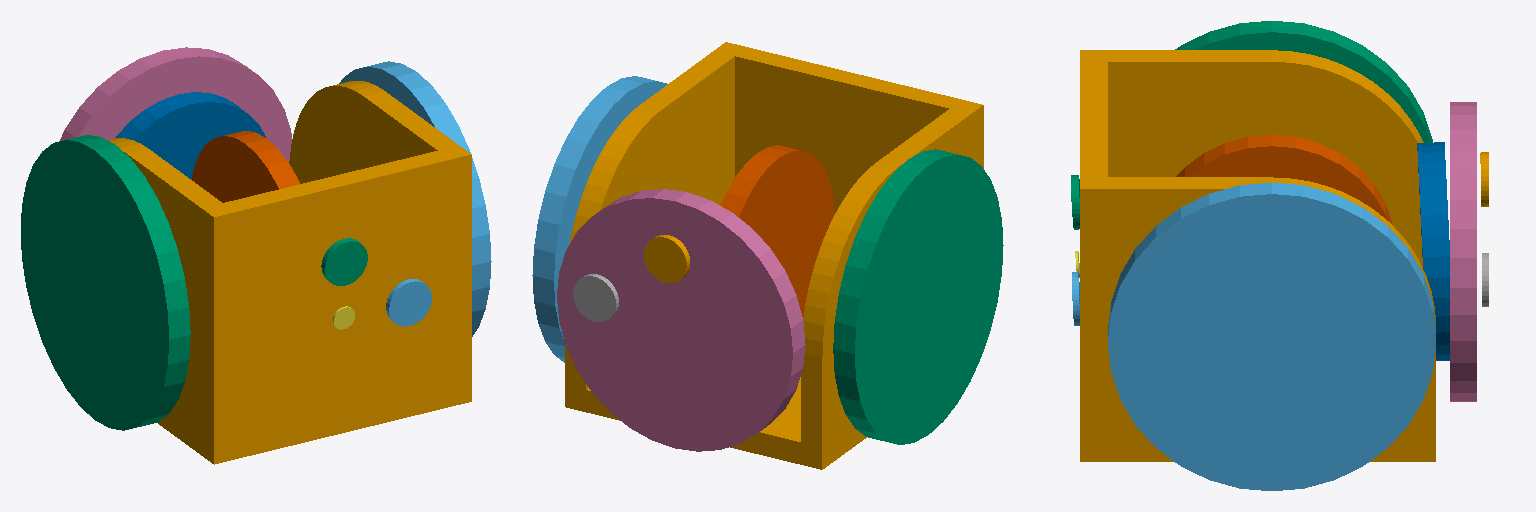
The robot description file, URDF, robot "ditto19":
<?xml version="1.0" ?>
<robot name="ditto19">
  <joint name="ditto19__hokuyo_sensor_joint" type="fixed">
    <parent link="ditto19__body"/>
    <child link="ditto19__hokuyo_sensor"/>
    <origin rpy="1.65062000e+00  -5.00000000e-05   5.80000000e-04" xyz="0      -0.07099  0.015"/>
    <axis xyz="1.00000000e+00   0.00000000e+00   5.90000000e-04"/>
    <limit effort="-1.0" lower="0.0" upper="-0.0" velocity="-1.0"/>
  </joint>
  <joint name="ditto19__body_JOINT_0" type="fixed">
    <parent link="ditto19__body"/>
    <child link="ditto19__body_magnet_south"/>
    <origin rpy="1.63618000e+00  -4.00000000e-05   2.10000000e-04" xyz="0      -0.07149  0.04"/>
    <axis xyz="1.00000000e+00  -2.00000000e-05   2.20000000e-04"/>
    <limit effort="-1.0" lower="0.0" upper="0.0" velocity="-1.0"/>
  </joint>
  <joint name="ditto19__body_JOINT_1" type="fixed">
    <parent link="ditto19__body"/>
    <child link="ditto19__body_magnet_north"/>
    <origin rpy="1.62063000e+00  -3.00000000e-05   1.60000000e-04" xyz="0.03    -0.07149  0.015"/>
    <axis xyz="1.00000000e+00  -2.00000000e-05   1.60000000e-04"/>
    <limit effort="-1.0" lower="0.0" upper="0.0" velocity="-1.0"/>
  </joint>
  <joint name="ditto19__fixed_joint" type="fixed">
    <parent link="ditto19__face_tilt"/>
    <child link="ditto19__face_pan"/>
    <origin rpy="1.54872000e+00  -2.00000000e-05   4.30500000e-02" xyz="0    0.06  0"/>
    <axis xyz="-9.99070000e-01   6.00000000e-05  -4.30500000e-02"/>
    <limit effort="-1.0" lower="0.0" upper="0.0" velocity="-1.0"/>
  </joint>
  <joint name="ditto19__front_face_JOINT_0" type="fixed">
    <parent link="ditto19__front_face"/>
    <child link="ditto19__front_face_magnet_north"/>
    <origin rpy="1.57071000e+00  -1.00000000e-05   1.00000000e-04" xyz="0.03   0.008 -0.005"/>
    <axis xyz="1.00000000e+00  -1.00000000e-05   8.00000000e-05"/>
    <limit effort="-1.0" lower="0.0" upper="0.0" velocity="-1.0"/>
  </joint>
  <joint name="ditto19__front_face_JOINT_1" type="fixed">
    <parent link="ditto19__front_face"/>
    <child link="ditto19__front_face_magnet_south"/>
    <origin rpy="1.58626000e+00  -2.00000000e-05   1.60000000e-04" xyz="-0.003  0.008  0.02"/>
    <axis xyz="1.00000000e+00  -2.00000000e-05   1.30000000e-04"/>
    <limit effort="-1.0" lower="0.0" upper="0.0" velocity="-1.0"/>
  </joint>
  <joint name="ditto19__left_wheel_joint" type="revolute">
    <parent link="ditto19__body"/>
    <child link="ditto19__left_wheel"/>
    <origin rpy="1.5707  0      1.5707" xyz="0.07     0       0.01833"/>
    <axis xyz="0.00000000e+00   1.00000000e+00   9.00000000e-05"/>
    <limit effort="-1.0" lower="-1.79769e+308" upper="1.79769e+308" velocity="-1.0"/>
  </joint>
  <joint name="ditto19__pan_joint" type="revolute">
    <parent link="ditto19__face_pan"/>
    <child link="ditto19__front_face"/>
    <origin rpy="-1.61389 -0.02206  1.57168" xyz="0.00043  0.00022 -0.00998"/>
    <axis xyz="-2.00000000e-05   1.00000000e+00   1.00000000e-05"/>
    <limit effort="-1.0" lower="-1.79769e+308" upper="1.79769e+308" velocity="-1.0"/>
  </joint>
  <joint name="ditto19__right_wheel_joint" type="revolute">
    <parent link="ditto19__body"/>
    <child link="ditto19__right_wheel"/>
    <origin rpy="1.5707  0      1.5707" xyz="-0.07     0       0.01833"/>
    <axis xyz="0.00000000e+00   1.00000000e+00   9.00000000e-05"/>
    <limit effort="-1.0" lower="-1.79769e+308" upper="1.79769e+308" velocity="-1.0"/>
  </joint>
  <joint name="ditto19__tilt_joint" type="revolute">
    <parent link="ditto19__body"/>
    <child link="ditto19__face_tilt"/>
    <origin rpy="-3.14159  1.56989 -3.14159" xyz="0    0    0.02"/>
    <axis xyz="-1.00000000e+00   0.00000000e+00  -9.00000000e-04"/>
    <limit effort="-1.0" lower="0.0" upper="1.5707" velocity="-1.0"/>
  </joint>
  <link name="ditto19__body">
    <inertial>
      <mass value="5"/>
      <origin rpy="0  0  0" xyz="0  0  0"/>
      <inertia ixx="0.166667" ixy="0" ixz="0" iyy="0.166667" iyz="0" izz="0.166667"/>
    </inertial>
    <collision name="ditto19__collision">
      <origin rpy="0  0  0" xyz="0       0      -0.03666"/>
      <geometry>
       <mesh filename="package://gp_abstract_sim/meshes/bodyCorrected.stl" scale="0.01 0.01 0.01"/>
      </geometry>
    </collision>
    <visual name="ditto19__visual">
      <origin rpy="0  0  0" xyz="0       0      -0.03666"/>
      <geometry>
       <mesh filename="package://gp_abstract_sim/meshes/bodyCorrected.stl" scale="0.01 0.01 0.01"/>
 </geometry>
    </visual>
  </link>
  <link name="ditto19__body_magnet_north">
    <inertial>
      <mass value="1e-07"/>
      <origin rpy="0  0  0" xyz="0  0  0"/>
      <inertia ixx="0" ixy="0" ixz="0" iyy="0" iyz="0" izz="0"/>
    </inertial>
    <collision name="ditto19__box_collision">
      <origin rpy="0  0  0" xyz="0  0  0"/>
      <geometry>
        <cylinder length="0.0025" radius="0.01"/>
      </geometry>
    </collision>
    <visual name="ditto19__visual">
      <origin rpy="0  0  0" xyz="0  0  0"/>
      <geometry>
        <cylinder length="0.0025" radius="0.01"/>
      </geometry>
    </visual>
  </link>
  <link name="ditto19__body_magnet_south">
    <inertial>
      <mass value="1e-07"/>
      <origin rpy="0  0  0" xyz="0  0  0"/>
      <inertia ixx="0" ixy="0" ixz="0" iyy="0" iyz="0" izz="0"/>
    </inertial>
    <collision name="ditto19__box_collision">
      <origin rpy="0  0  0" xyz="0  0  0"/>
      <geometry>
        <cylinder length="0.003" radius="0.01"/>
      </geometry>
    </collision>
    <visual name="ditto19__visual">
      <origin rpy="0  0  0" xyz="0  0  0"/>
      <geometry>
        <cylinder length="0.003" radius="0.01"/>
      </geometry>
    </visual>
  </link>
  <link name="ditto19__hokuyo_sensor">
    <inertial>
      <mass value="1e-07"/>
      <origin rpy="0  0  0" xyz="0  0  0"/>
      <inertia ixx="0" ixy="0" ixz="0" iyy="0" iyz="0" izz="0"/>
    </inertial>
    <collision name="ditto19__box_collision">
      <origin rpy="0  0  0" xyz="0  0  0"/>
      <geometry>
        <cylinder length="0.001" radius="0.005"/>
      </geometry>
    </collision>
    <visual name="ditto19__visual">
      <origin rpy="0  0  0" xyz="0  0  0"/>
      <geometry>
        <cylinder length="0.001" radius="0.005"/>
      </geometry>
    </visual>
  </link>
  <link name="ditto19__face_pan">
    <inertial>
      <mass value="0.5"/>
      <origin rpy="0  0  0" xyz="0  0  0"/>
      <inertia ixx="0.145833" ixy="0" ixz="0" iyy="0.145833" iyz="0" izz="0.125"/>
    </inertial>
    <collision name="ditto19__collision">
      <origin rpy="0  0  0" xyz="0  0  0"/>
      <geometry>
        <cylinder length="0.01" radius="0.04"/>
      </geometry>
    </collision>
    <visual name="ditto19__visual">
      <origin rpy="0  0  0" xyz="0  0  0"/>
      <geometry>
        <cylinder length="0.01" radius="0.04"/>
      </geometry>
    </visual>
  </link>
  <link name="ditto19__face_tilt">
    <inertial>
      <mass value="0.0001"/>
      <origin rpy="0  0  0" xyz="0  0  0"/>
      <inertia ixx="0.145833" ixy="0" ixz="0" iyy="0.145833" iyz="0" izz="0.125"/>
    </inertial>
    <collision name="ditto19__collision">
      <origin rpy="0  0  0" xyz="0  0  0"/>
      <geometry>
        <cylinder length="0.01" radius="0.045"/>
      </geometry>
    </collision>
    <visual name="ditto19__visual">
      <origin rpy="0  0  0" xyz="0  0  0"/>
      <geometry>
        <cylinder length="0.01" radius="0.045"/>
      </geometry>
    </visual>
  </link>
  <link name="ditto19__front_face">
    <inertial>
      <mass value="0.5"/>
      <origin rpy="0  0  0" xyz="0  0  0"/>
      <inertia ixx="0.166667" ixy="0" ixz="0" iyy="0.166667" iyz="0" izz="0.166667"/>
    </inertial>
    <collision name="ditto19__collision">
      <origin rpy="1.5707  0      0" xyz="0  0  0"/>
      <geometry>
        <cylinder length="0.01" radius="0.05"/>
      </geometry>
    </collision>
    <visual name="ditto19__visual">
      <origin rpy="1.5707  0      0" xyz="0  0  0"/>
      <geometry>
        <cylinder length="0.01" radius="0.055"/>
      </geometry>
    </visual>
  </link>
  <link name="ditto19__front_face_magnet_north">
    <inertial>
      <mass value="1e-07"/>
      <origin rpy="0  0  0" xyz="0  0  0"/>
      <inertia ixx="0" ixy="0" ixz="0" iyy="0" iyz="0" izz="0"/>
    </inertial>
    <collision name="ditto19__box_collision">
      <origin rpy="0  0  0" xyz="0  0  0"/>
      <geometry>
        <cylinder length="0.0025" radius="0.01"/>
      </geometry>
    </collision>
    <visual name="ditto19__visual">
      <origin rpy="0  0  0" xyz="0.005  0.01   0"/>
      <geometry>
        <cylinder length="0.0025" radius="0.01"/>
      </geometry>
    </visual>
  </link>
  <link name="ditto19__front_face_magnet_south">
    <inertial>
      <mass value="1e-07"/>
      <origin rpy="0  0  0" xyz="0  0  0"/>
      <inertia ixx="0" ixy="0" ixz="0" iyy="0" iyz="0" izz="0"/>
    </inertial>
    <collision name="ditto19__box_collision">
      <origin rpy="0  0  0" xyz="0  0  0"/>
      <geometry>
        <cylinder length="0.003" radius="0.01"/>
      </geometry>
    </collision>
    <visual name="ditto19__visual">
      <origin rpy="0  0  0" xyz="0.005  0.01   0"/>
      <geometry>
        <cylinder length="0.003" radius="0.01"/>
      </geometry>
    </visual>
  </link>
  <link name="ditto19__left_wheel">
    <inertial>
      <mass value="0.5"/>
      <origin rpy="0  0  0" xyz="0  0  0"/>
      <inertia ixx="0.145833" ixy="0" ixz="0" iyy="0.145833" iyz="0" izz="0.125"/>
    </inertial>
    <collision name="ditto19__collision">
      <origin rpy="0  0  0" xyz="0  0  0"/>
      <geometry>
        <cylinder length="0.01" radius="0.06"/>
      </geometry>
    </collision>
    <visual name="ditto19__visual">
      <origin rpy="0  0  0" xyz="0  0  0"/>
      <geometry>
        <cylinder length="0.01" radius="0.06"/>
      </geometry>
    </visual>
  </link>
  <link name="ditto19__right_wheel">
    <inertial>
      <mass value="0.5"/>
      <origin rpy="0  0  0" xyz="0  0  0"/>
      <inertia ixx="0.145833" ixy="0" ixz="0" iyy="0.145833" iyz="0" izz="0.125"/>
    </inertial>
    <collision name="ditto19__collision">
      <origin rpy="0  0  0" xyz="0  0  0"/>
      <geometry>
        <cylinder length="0.01" radius="0.06"/>
      </geometry>
    </collision>
    <visual name="ditto19__visual">
      <origin rpy="0  0  0" xyz="0  0  0"/>
      <geometry>
        <cylinder length="0.01" radius="0.06"/>
      </geometry>
    </visual>
  </link>
</robot>

--- Render facts (derived) ---
Views: 3 orthographic renders of the robot side by side, from view 1: azimuth 30°, elevation 25°; view 2: azimuth 150°, elevation 25°; view 3: azimuth 270°, elevation 25°.
Robot: ditto19 — 11 links, 10 joints (4 revolute, 6 fixed); root link ditto19__body; default pose: all joints at 0.
Visible links, largest first — view 1: ditto19__body, ditto19__right_wheel, ditto19__front_face, ditto19__face_pan, ditto19__left_wheel, ditto19__face_tilt, ditto19__body_magnet_south, ditto19__body_magnet_north; view 2: ditto19__body, ditto19__front_face, ditto19__right_wheel, ditto19__face_tilt, ditto19__left_wheel, ditto19__front_face_magnet_south, ditto19__front_face_magnet_north; view 3: ditto19__left_wheel, ditto19__body, ditto19__front_face, ditto19__face_tilt, ditto19__right_wheel, ditto19__face_pan.
Boxes of the visible links, left/top/right/bottom form: ditto19__body: left=108, top=81, right=471, bottom=464; ditto19__right_wheel: left=21, top=135, right=190, bottom=430; ditto19__front_face: left=60, top=47, right=291, bottom=161; ditto19__face_pan: left=115, top=92, right=265, bottom=179; ditto19__left_wheel: left=339, top=61, right=491, bottom=336; ditto19__face_tilt: left=192, top=131, right=299, bottom=202; ditto19__body_magnet_south: left=321, top=238, right=367, bottom=285; ditto19__body_magnet_north: left=386, top=279, right=431, bottom=326; ditto19__body: left=565, top=42, right=983, bottom=469; ditto19__front_face: left=557, top=189, right=805, bottom=451; ditto19__right_wheel: left=833, top=149, right=1003, bottom=444; ditto19__face_tilt: left=720, top=145, right=833, bottom=316; ditto19__left_wheel: left=532, top=76, right=667, bottom=362; ditto19__front_face_magnet_south: left=644, top=235, right=689, bottom=282; ditto19__front_face_magnet_north: left=573, top=274, right=618, bottom=321; ditto19__left_wheel: left=1108, top=182, right=1435, bottom=490; ditto19__body: left=1080, top=50, right=1435, bottom=461; ditto19__front_face: left=1450, top=102, right=1476, bottom=401; ditto19__face_tilt: left=1176, top=135, right=1392, bottom=224; ditto19__right_wheel: left=1175, top=21, right=1432, bottom=142; ditto19__face_pan: left=1417, top=142, right=1449, bottom=360.
Bounding box of the posed robot: 0.15 × 0.1531 × 0.12 m (x, y, z).
Meshes: 1 distinct files referenced, 1 mesh visuals loaded (1 binary STL).
